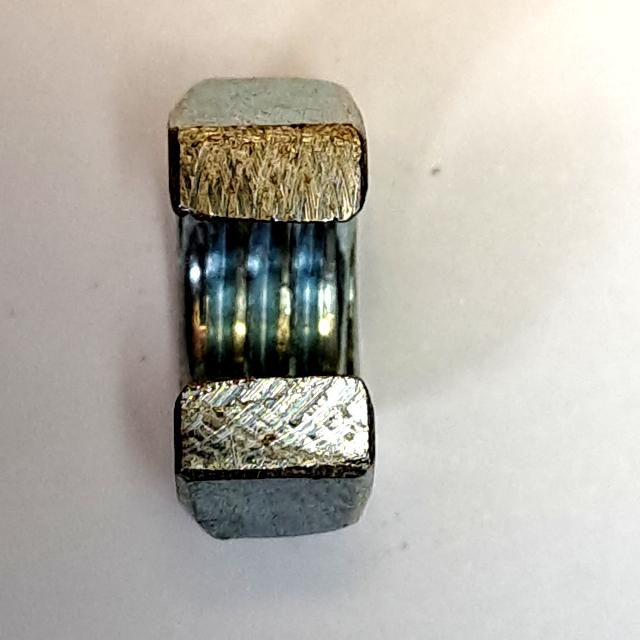Side-Fracture: (147, 64, 396, 561)
